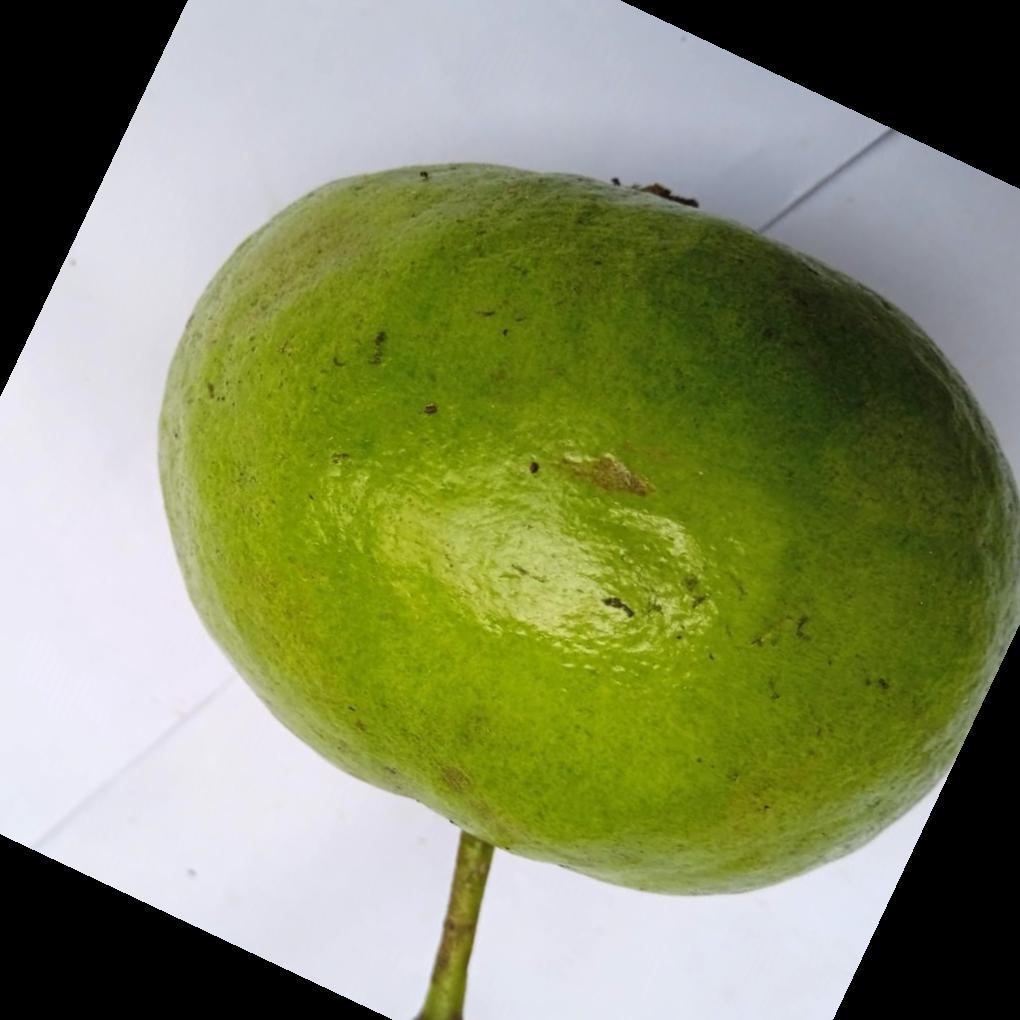FreshGuava: (158, 163, 1020, 900)
